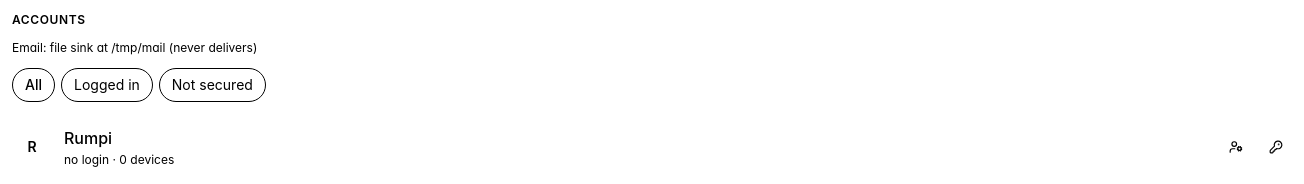
Test: AccountsTab › says nobody is logged in when nobody is
Expected: the text "Rumpi" is shown, [64,126,112,150]
Expected: the text "no login" is shown, [64,152,109,167]
Click the button "Logged in" at (107, 85), box [61,68,153,102]
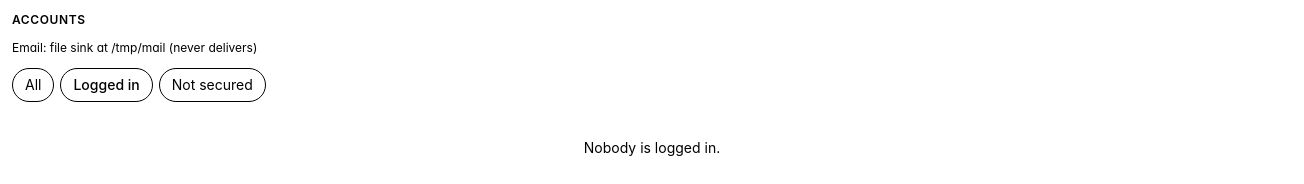
Expected: the text "Nobody is logged in." is shown, [584,139,720,156]
